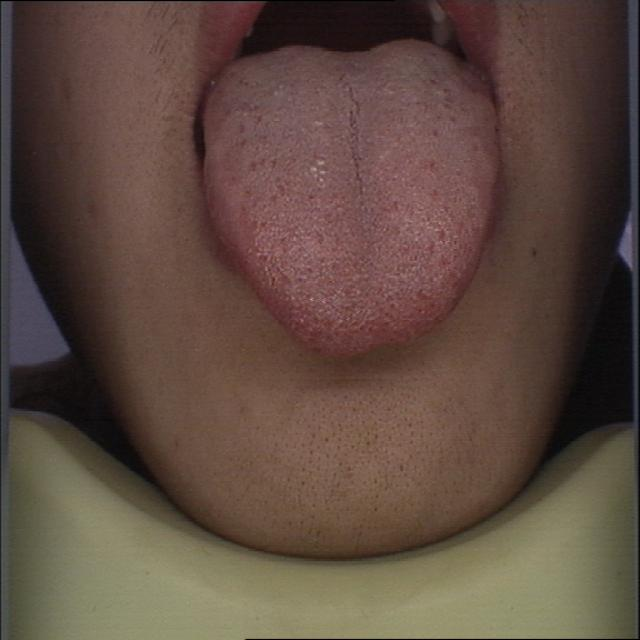tongue: (194, 38, 510, 361)
